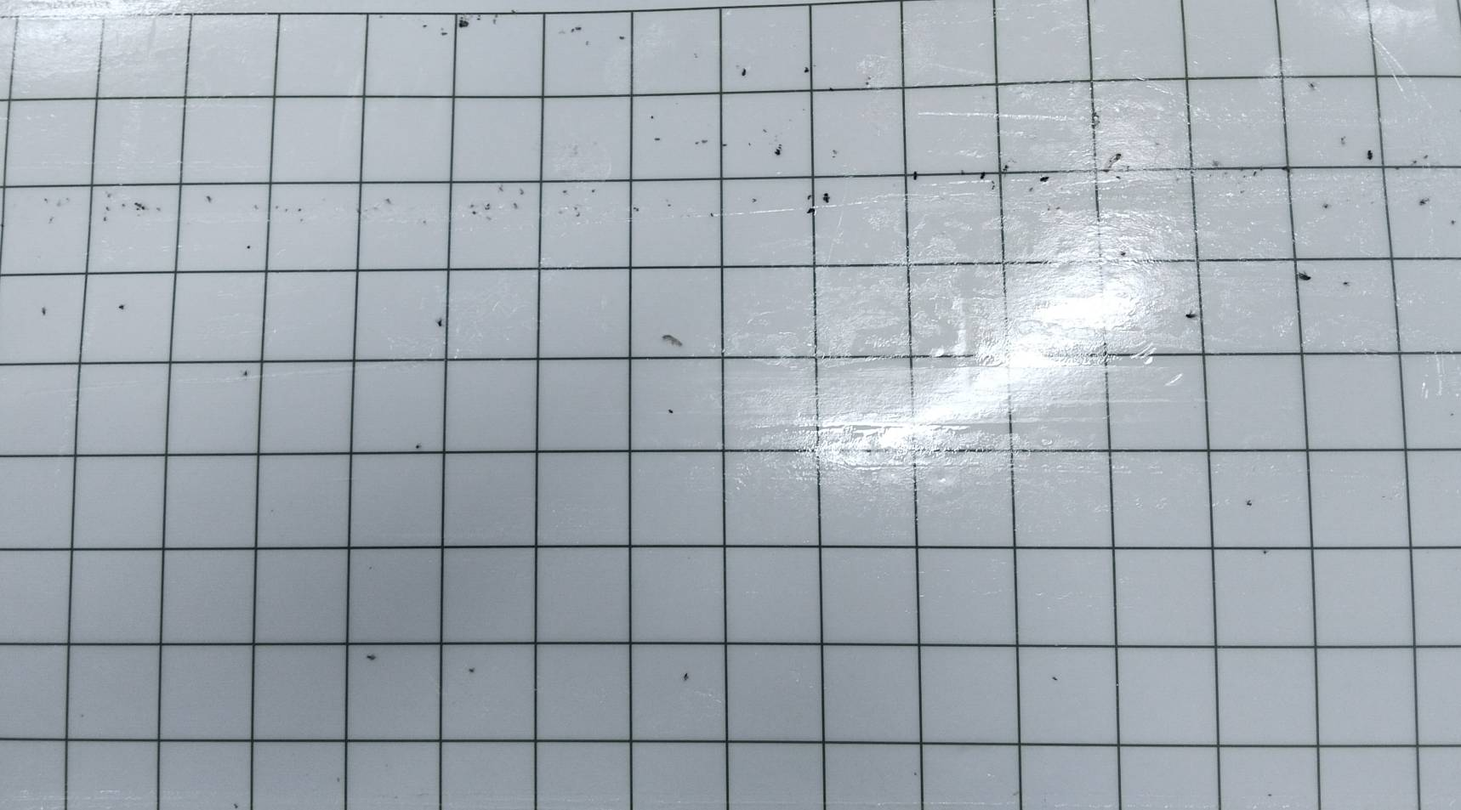test: (663, 332, 686, 352), (456, 16, 473, 33), (1087, 112, 1104, 129), (1295, 269, 1314, 282), (1184, 309, 1200, 322), (365, 651, 379, 665), (680, 670, 695, 683), (432, 315, 447, 328), (412, 441, 425, 454), (38, 305, 51, 318), (202, 193, 215, 206), (821, 191, 834, 204), (465, 663, 477, 677), (133, 201, 147, 212), (774, 143, 785, 157), (665, 405, 676, 418), (241, 368, 253, 379), (440, 29, 452, 40), (1112, 150, 1123, 162), (1419, 197, 1431, 208), (115, 303, 128, 313), (1038, 174, 1051, 183), (232, 800, 243, 810), (805, 207, 817, 216), (1280, 165, 1292, 174), (420, 21, 430, 31), (978, 170, 988, 180), (911, 170, 920, 181), (1366, 149, 1375, 160), (1339, 135, 1348, 146), (118, 200, 127, 210), (383, 196, 393, 205), (739, 68, 748, 78), (102, 213, 111, 222), (518, 187, 527, 196), (1001, 164, 1010, 173), (617, 33, 627, 41), (496, 185, 506, 193), (1245, 500, 1255, 508), (244, 242, 253, 250), (512, 201, 520, 210), (483, 203, 492, 211), (574, 212, 583, 220), (653, 135, 662, 143), (700, 137, 709, 145), (990, 181, 998, 190), (959, 168, 967, 177), (1322, 200, 1330, 209), (1051, 674, 1059, 683), (468, 201, 476, 209), (751, 196, 759, 204), (1027, 185, 1035, 193), (1119, 249, 1127, 257), (1450, 218, 1458, 226), (1309, 81, 1317, 89), (1258, 164, 1266, 172), (1261, 549, 1269, 557), (46, 216, 55, 223), (829, 85, 836, 94), (802, 66, 811, 73), (476, 13, 483, 22), (830, 149, 840, 155), (104, 204, 112, 211), (583, 39, 591, 46), (105, 193, 113, 200), (632, 205, 639, 213), (709, 211, 716, 219), (649, 113, 656, 121), (721, 141, 728, 149), (1114, 174, 1122, 181), (1341, 280, 1349, 287), (1422, 154, 1430, 161), (1251, 170, 1259, 177), (911, 770, 919, 777), (576, 24, 582, 33), (299, 216, 306, 223), (562, 188, 569, 195), (558, 209, 565, 216), (694, 139, 701, 146), (1054, 205, 1061, 212), (1411, 159, 1418, 166), (1238, 166, 1245, 173), (252, 204, 260, 210), (274, 204, 280, 212), (155, 206, 163, 212), (1239, 189, 1247, 195), (570, 26, 576, 34), (472, 209, 478, 216), (42, 196, 49, 202), (666, 202, 673, 208), (762, 128, 769, 134), (806, 193, 812, 200), (1266, 792, 1273, 798), (511, 9, 518, 15), (492, 19, 499, 25), (422, 220, 428, 226), (572, 205, 578, 211), (864, 81, 870, 87), (494, 12, 500, 18), (486, 215, 493, 220), (295, 207, 302, 212), (591, 188, 596, 195), (284, 207, 289, 213), (747, 141, 753, 146)
